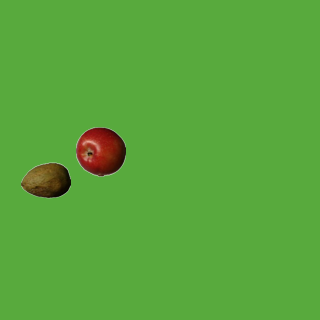Apple Braeburn: (75, 126, 125, 176)
Papaya: (20, 155, 70, 205)
